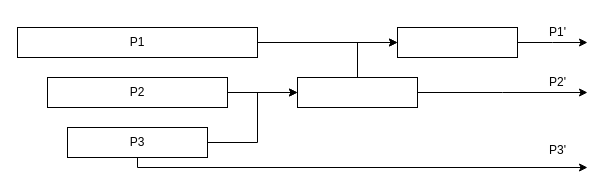
The diagram is 613 pixels wide and 193 high, and some of its shapes have lost their labels. Here are the shapes that lost their labels. From the top down, the centre of each, then its label:
At point 457,42: "F3".
At point 357,92: "F2".
